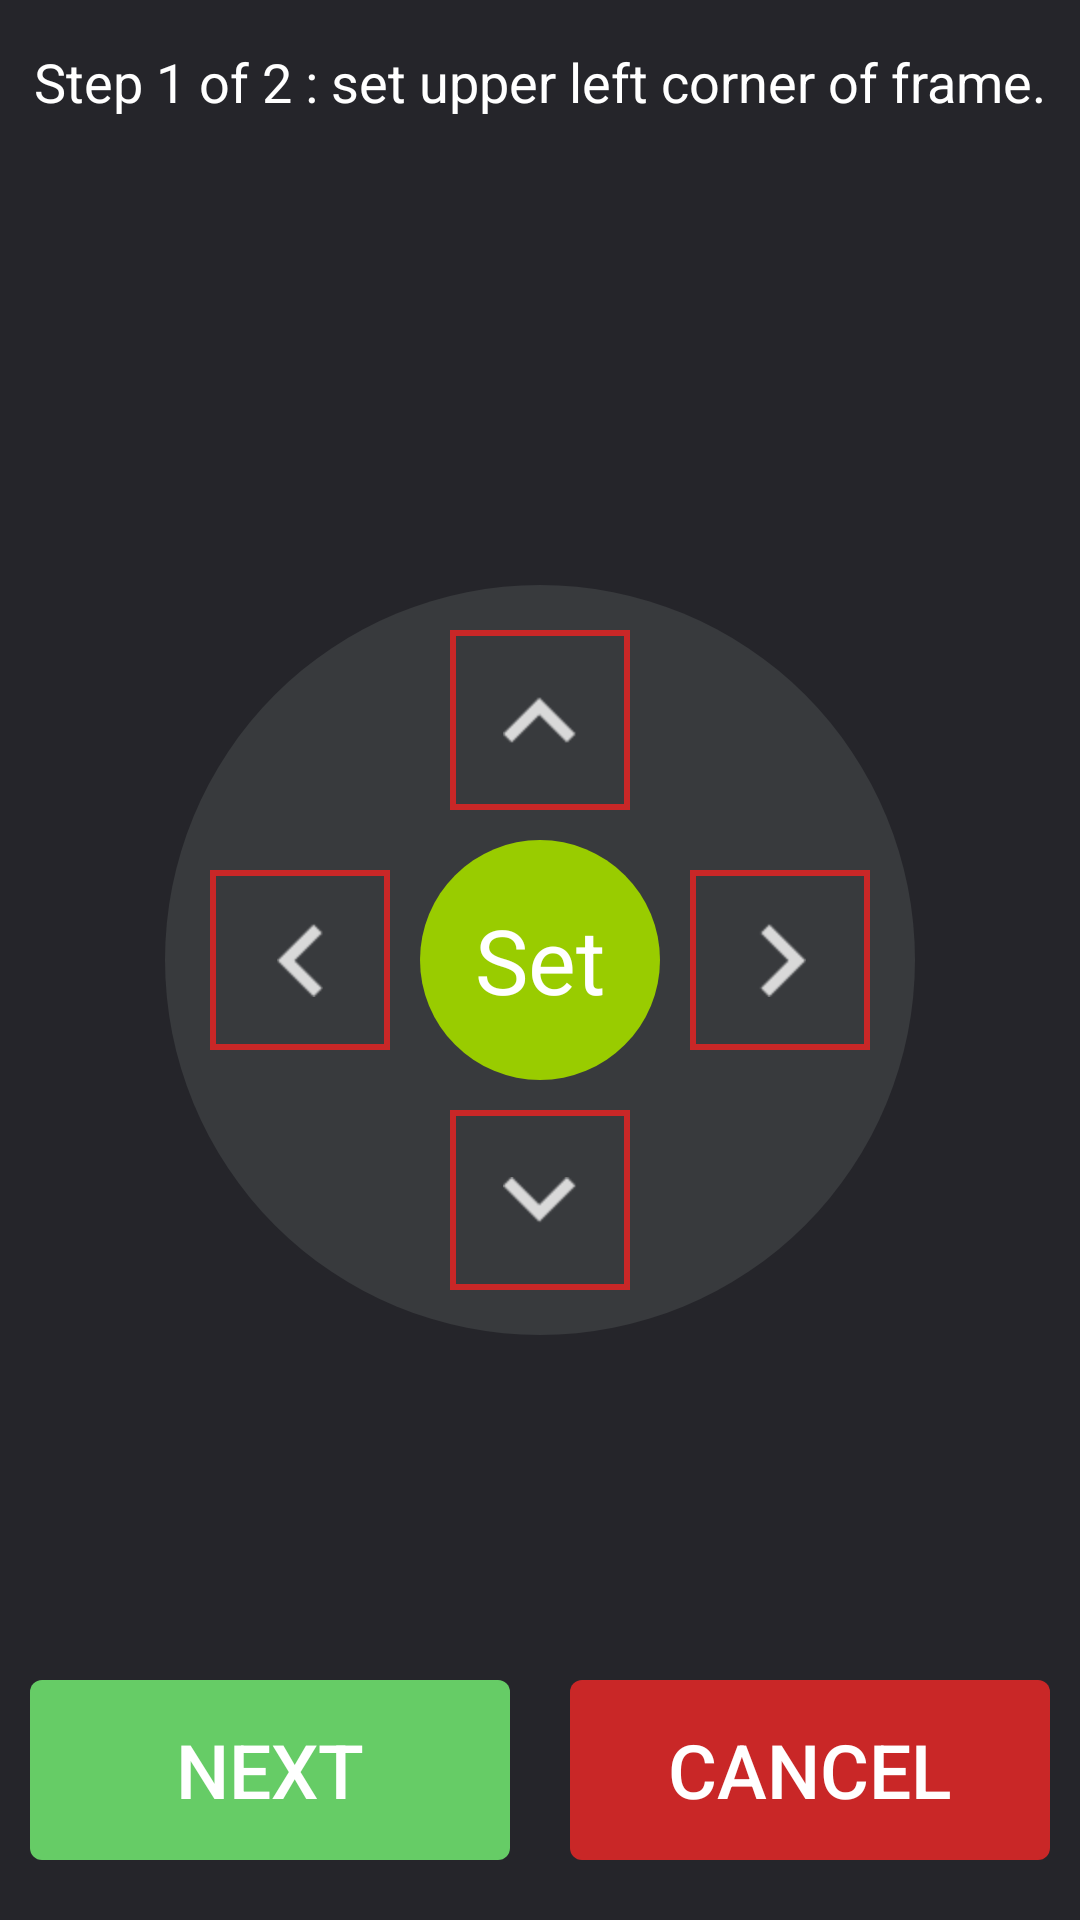

Icon click points for this 1080x1920 phone screenshot, format [x,y]:
bottom: [539,1199]
left: [300,960]
right: [783,960]
top: [539,720]
